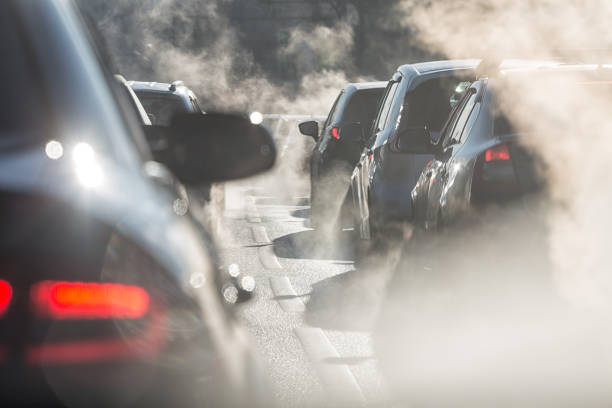car: (419, 84, 612, 268), (366, 65, 486, 222), (310, 80, 390, 211)
